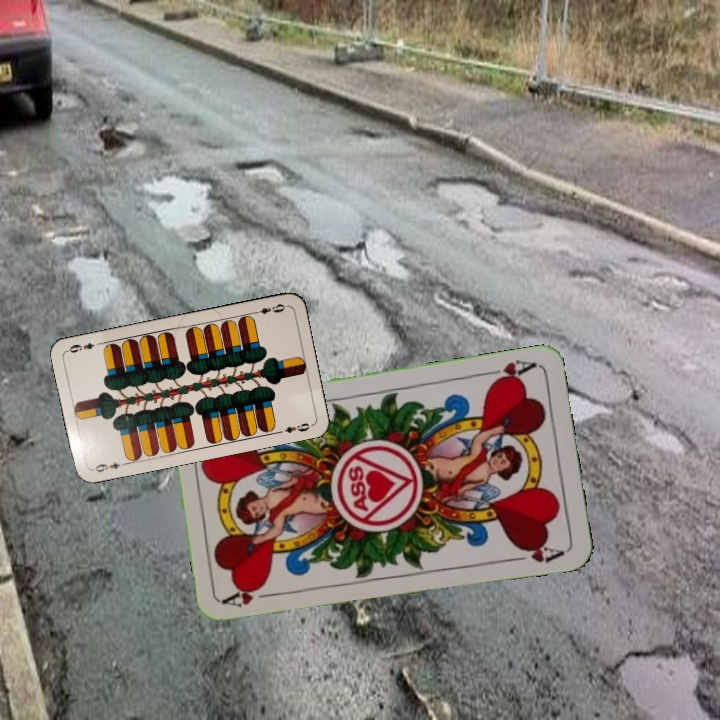E9: (249, 300, 289, 317), (89, 458, 123, 475)
HA: (479, 355, 538, 387), (221, 584, 281, 610)
